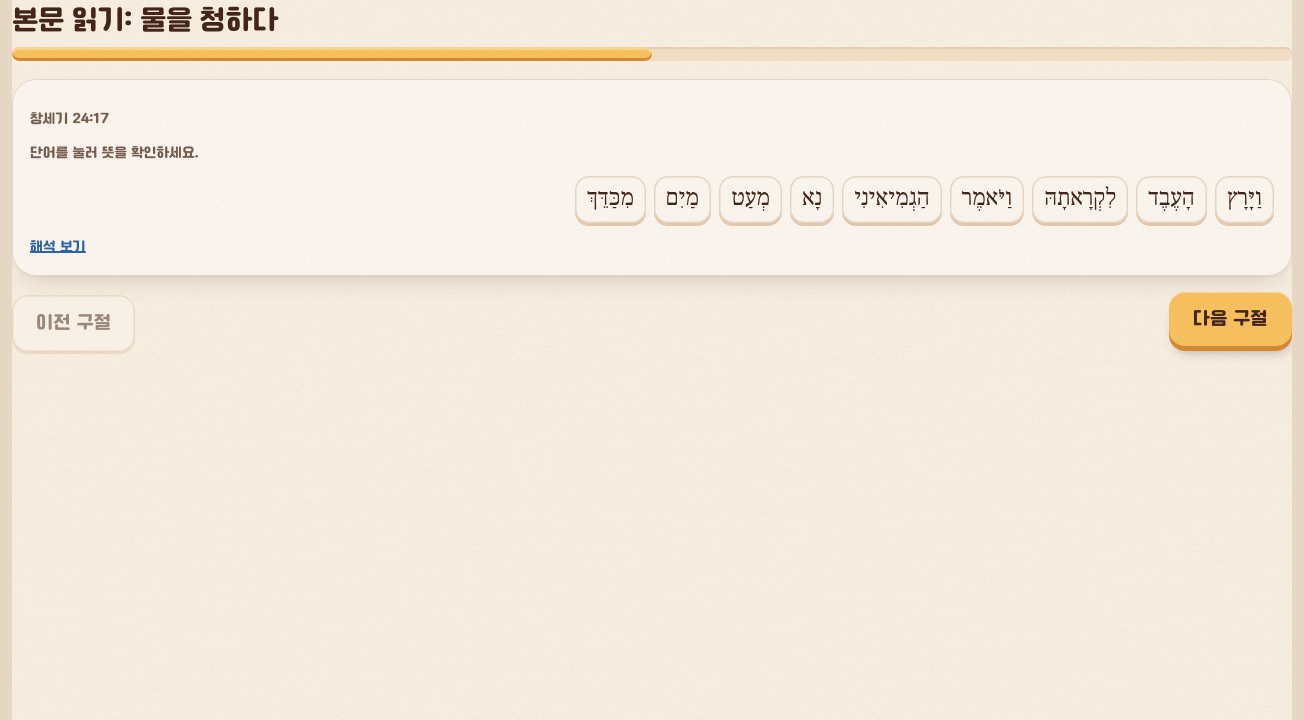
Test: ReadingView › translation toggle
expect the text "종이 그녀를 맞으러 달려가서 말했다. \"부디 당신의 항아리에서 물을 조금 마시게 해 주십시오.\"" is not shown: met
Click the button "해석 보기".
click(58, 248)  # box 30,237 -> 86,258
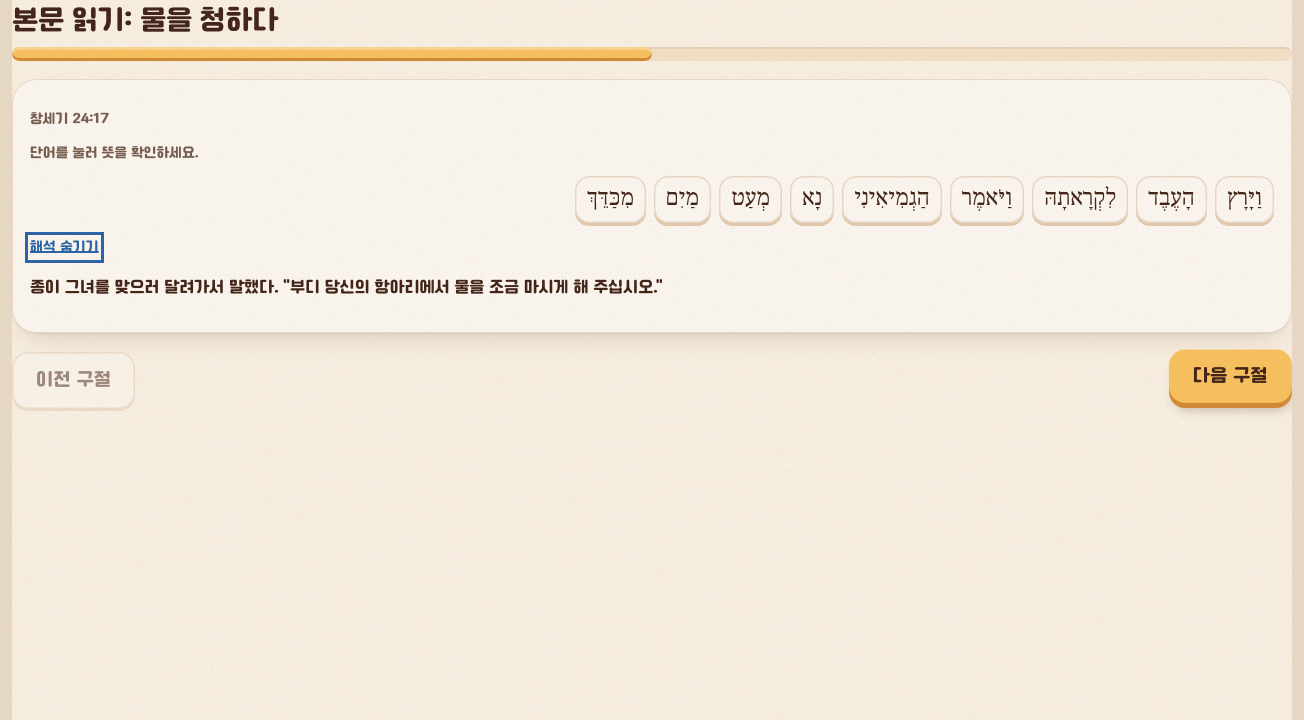
expect the text "종이 그녀를 맞으러 달려가서 말했다. \"부디 당신의 항아리에서 물을 조금 마시게 해 주십시오.\"" is shown: met, box 30,278 -> 662,297
